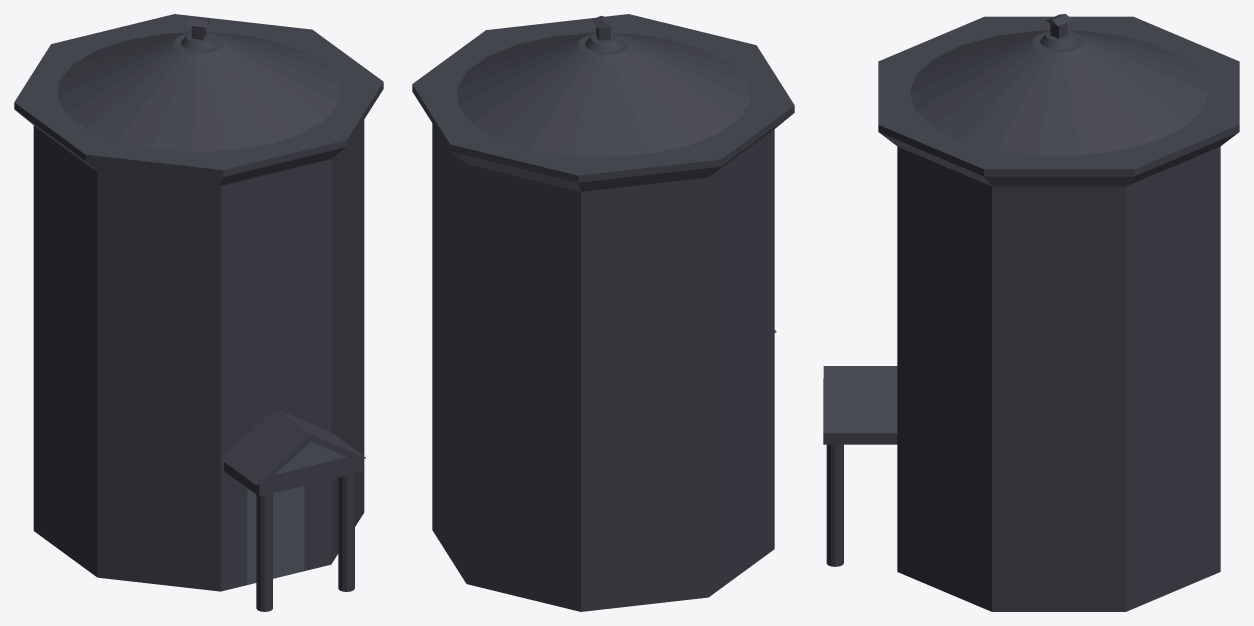
The model's file is torre.obj.
The picture shows the model from 3 angles, left to right: view 1: azimuth 30°, elevation 25°; view 2: azimuth 150°, elevation 25°; view 3: azimuth 270°, elevation 25°; orthographic projection. The views are drawn at different scales.
Parts seen in each view (by area): view 1: MainBody, MainCone, Marquesina, Triangle, PilarIzq, PilarDer, cubo; view 2: MainBody, MainCone, Marquesina; view 3: MainBody, MainCone, Marquesina, Triangle, PilarDer, cubo.
Boxes of the visible parts, left/top/right/bottom form: MainBody: left=33, top=120, right=364, bottom=591; MainCone: left=57, top=32, right=340, bottom=151; Marquesina: left=14, top=14, right=383, bottom=185; Triangle: left=221, top=408, right=365, bottom=484; PilarIzq: left=256, top=493, right=272, bottom=611; PilarDer: left=338, top=473, right=354, bottom=591; cubo: left=224, top=459, right=363, bottom=496; MainBody: left=432, top=123, right=774, bottom=611; MainCone: left=457, top=32, right=749, bottom=156; Marquesina: left=412, top=14, right=794, bottom=191; MainBody: left=897, top=146, right=1220, bottom=611; MainCone: left=910, top=30, right=1207, bottom=155; Marquesina: left=878, top=16, right=1239, bottom=186; Triangle: left=823, top=366, right=897, bottom=433; PilarDer: left=826, top=444, right=843, bottom=566; cubo: left=823, top=378, right=897, bottom=444.
Bounding box in the file's own units: 12.18 × 19.59 × 14.03.
